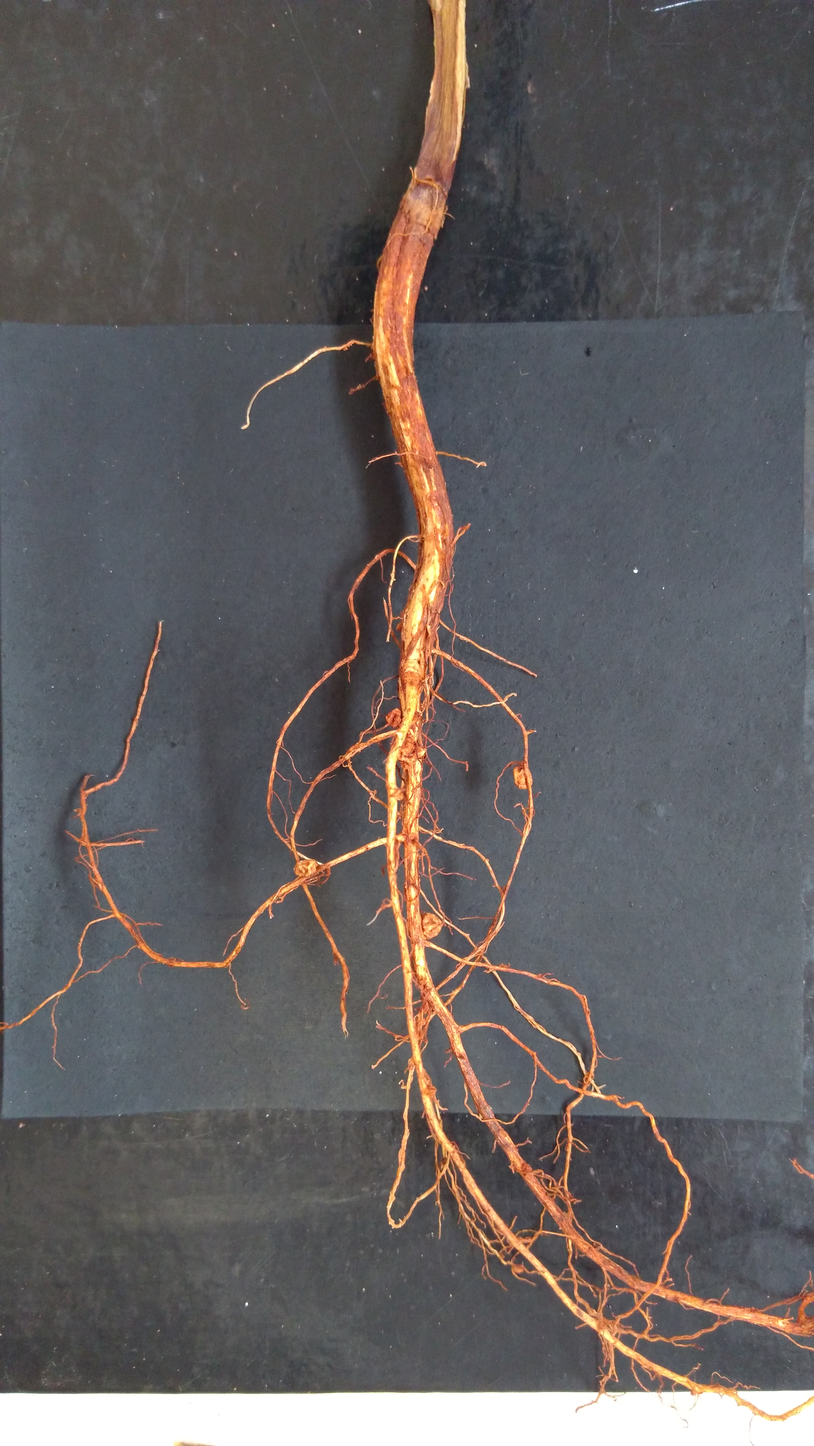nodule: (418, 909, 445, 942), (390, 730, 417, 762), (511, 765, 535, 790), (292, 857, 320, 878), (383, 706, 402, 731)
